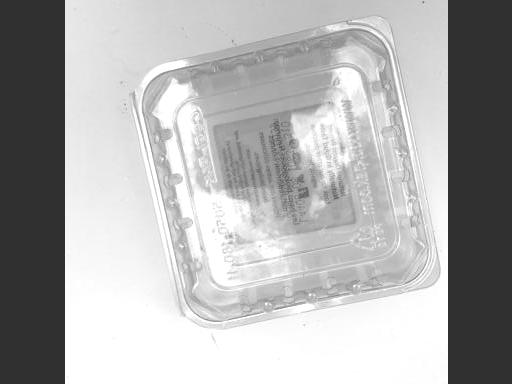bottle: (278, 13, 294, 348)
